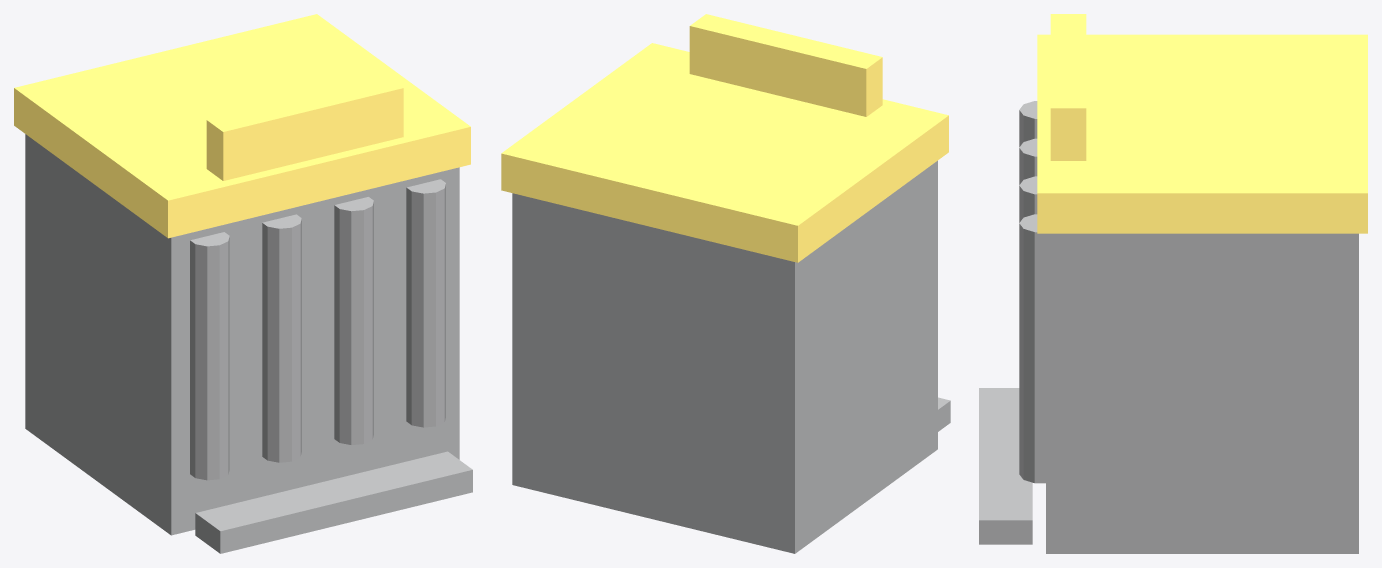
File: bank.glb
The picture shows the model from 3 angles, left to right: view 1: azimuth 30°, elevation 25°; view 2: azimuth 150°, elevation 25°; view 3: azimuth 270°, elevation 25°; orthographic projection. The views are drawn at different scales.
Visible parts, largest first — view 1: bank; view 2: bank; view 3: bank.
Part boxes in pixels (x1,y1,x2,y2): bank: (14, 14, 472, 553); bank: (501, 14, 950, 553); bank: (979, 14, 1367, 553).
Bounding box in the file's own units: 0.84 × 1.03 × 0.87.
